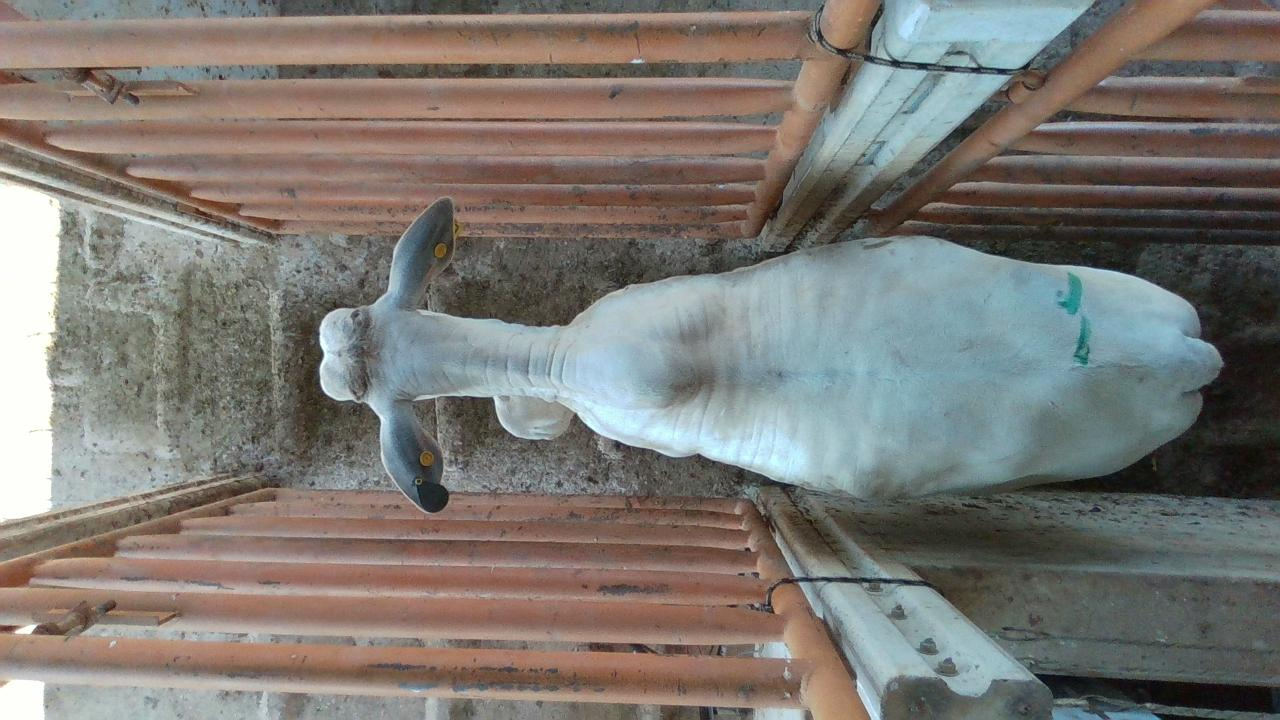cattle: (316, 195, 1225, 511)
